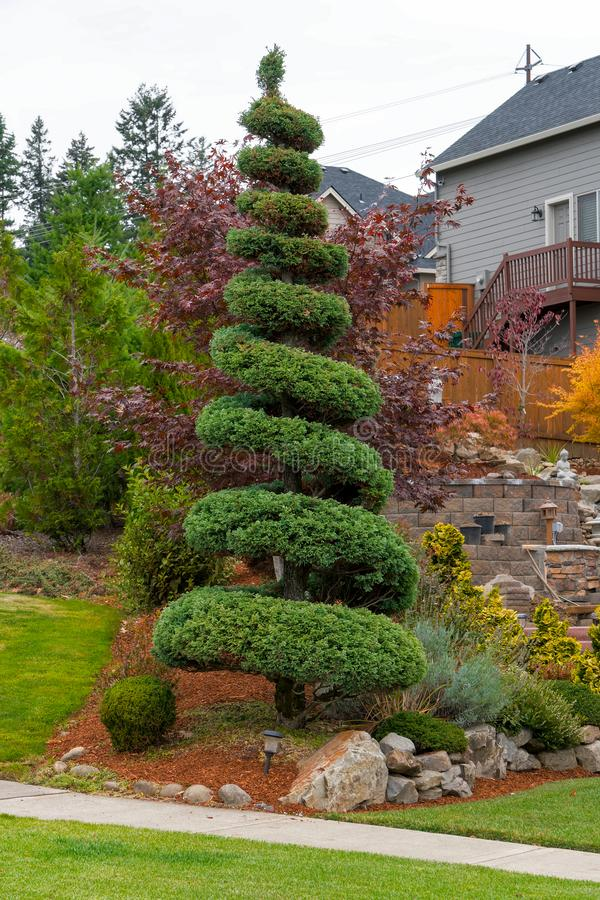tree: (174, 39, 424, 736)
